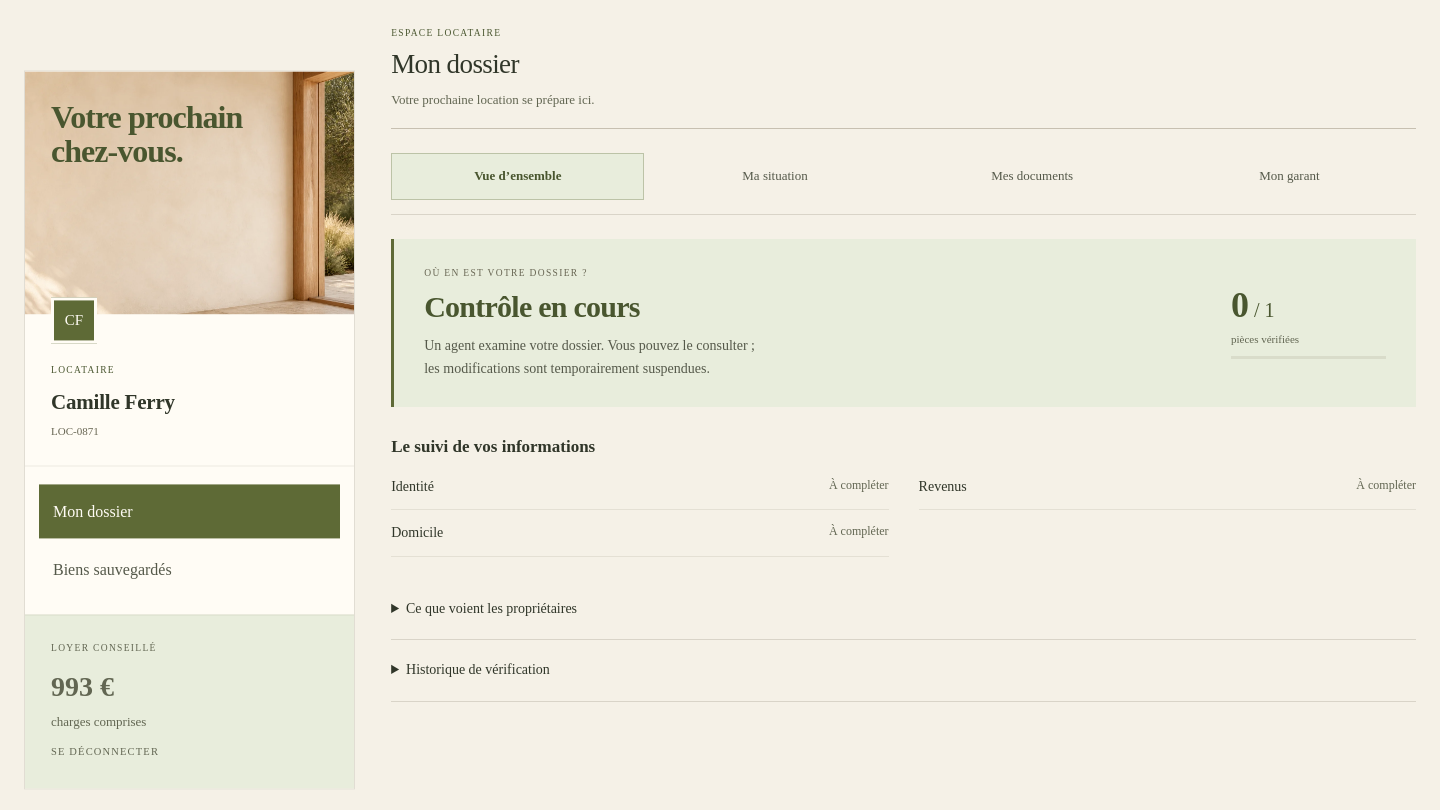
Test: Dossier locataire par rubriques › maintient les modifications verrouillées dans chaque rubrique pendant le contrôle
What coordinates should you click on to do the following:
click the button "Ma situation"
I would click on:
 (775, 176)
Its box is [648,153,902,200].
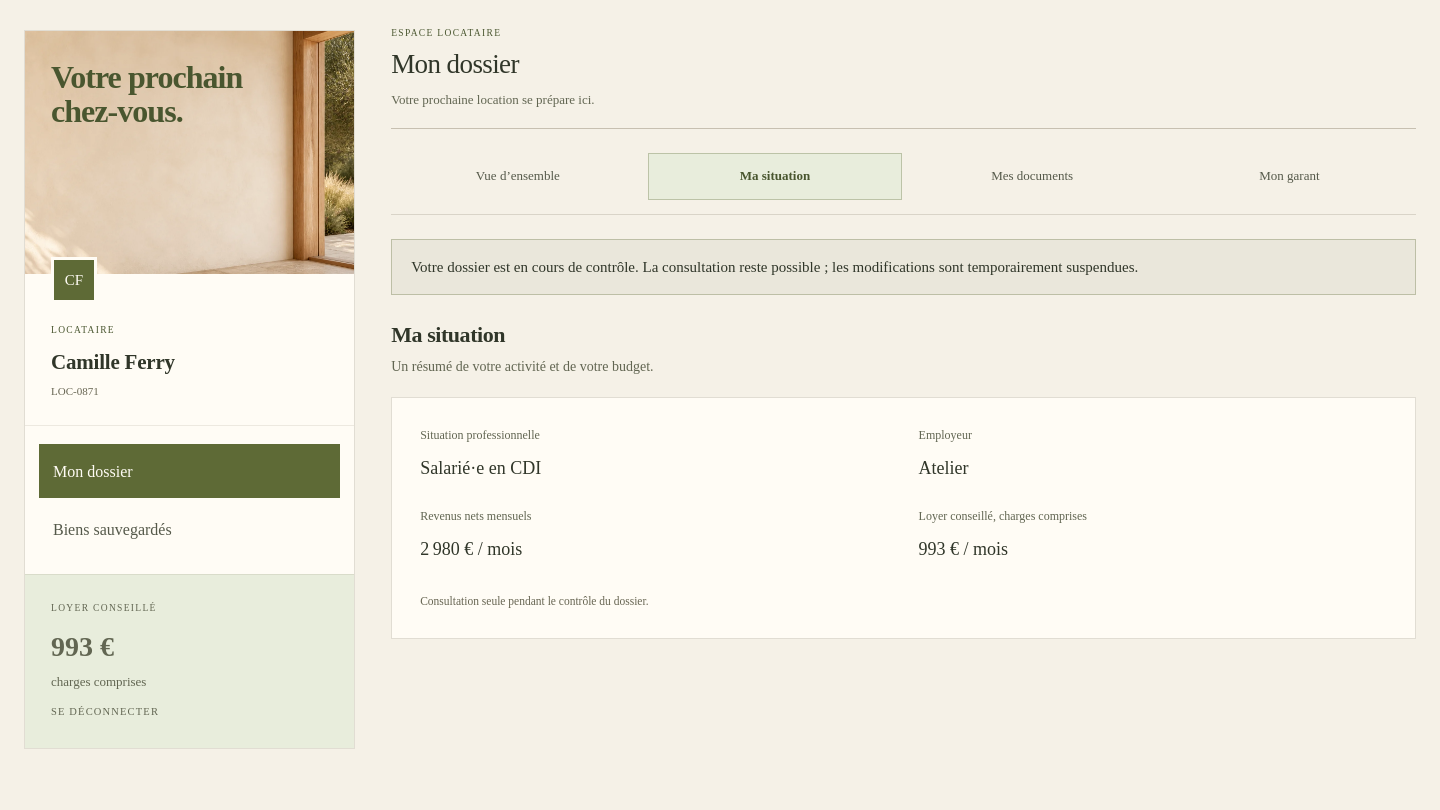
What coordinates should you click on to do the following:
click the button "Mes documents"
I would click on:
 (1032, 176)
Its box is [906,153,1159,200].
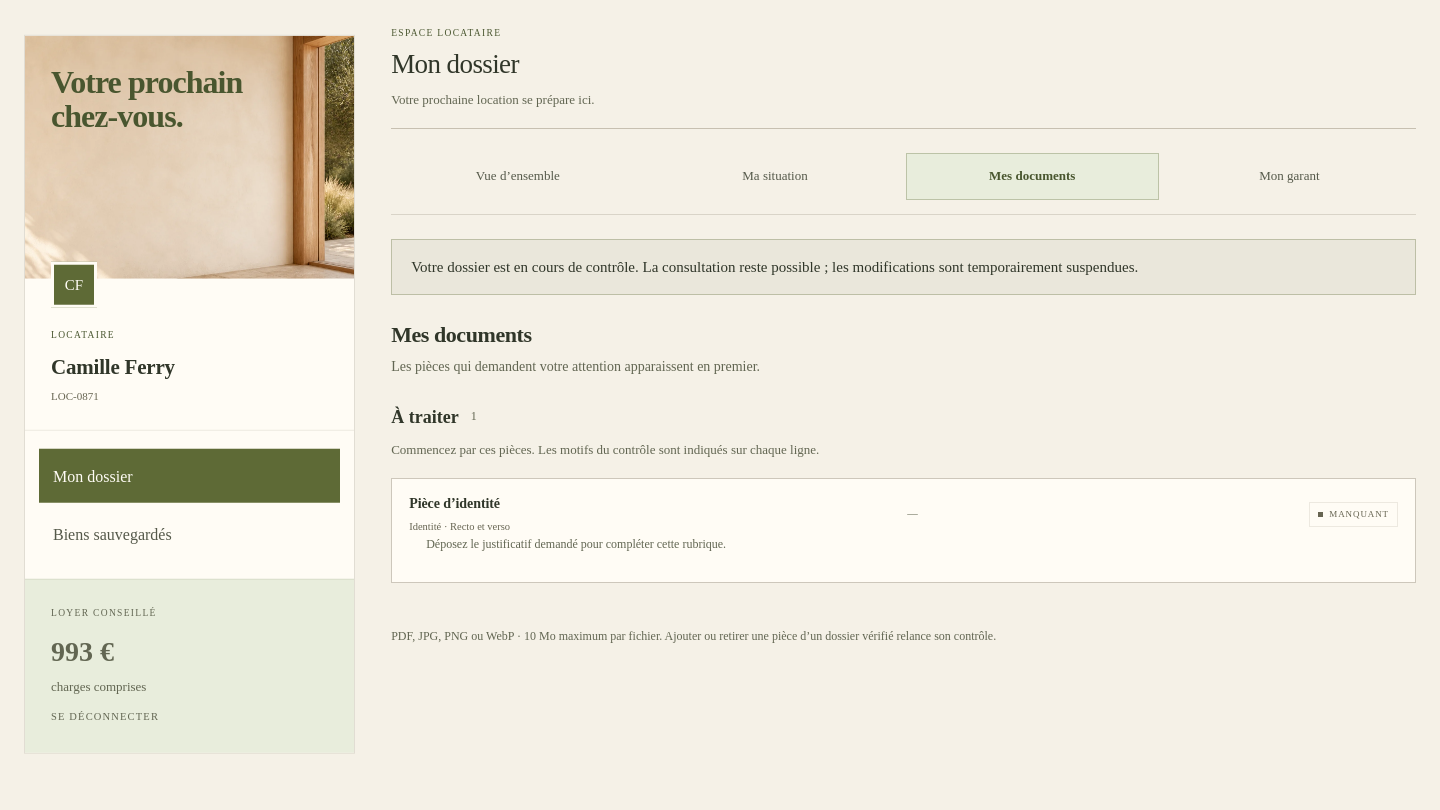
What coordinates should you click on to do the following:
click the button "Mon garant"
I would click on:
 (1289, 176)
Its box is [1163,153,1416,200].
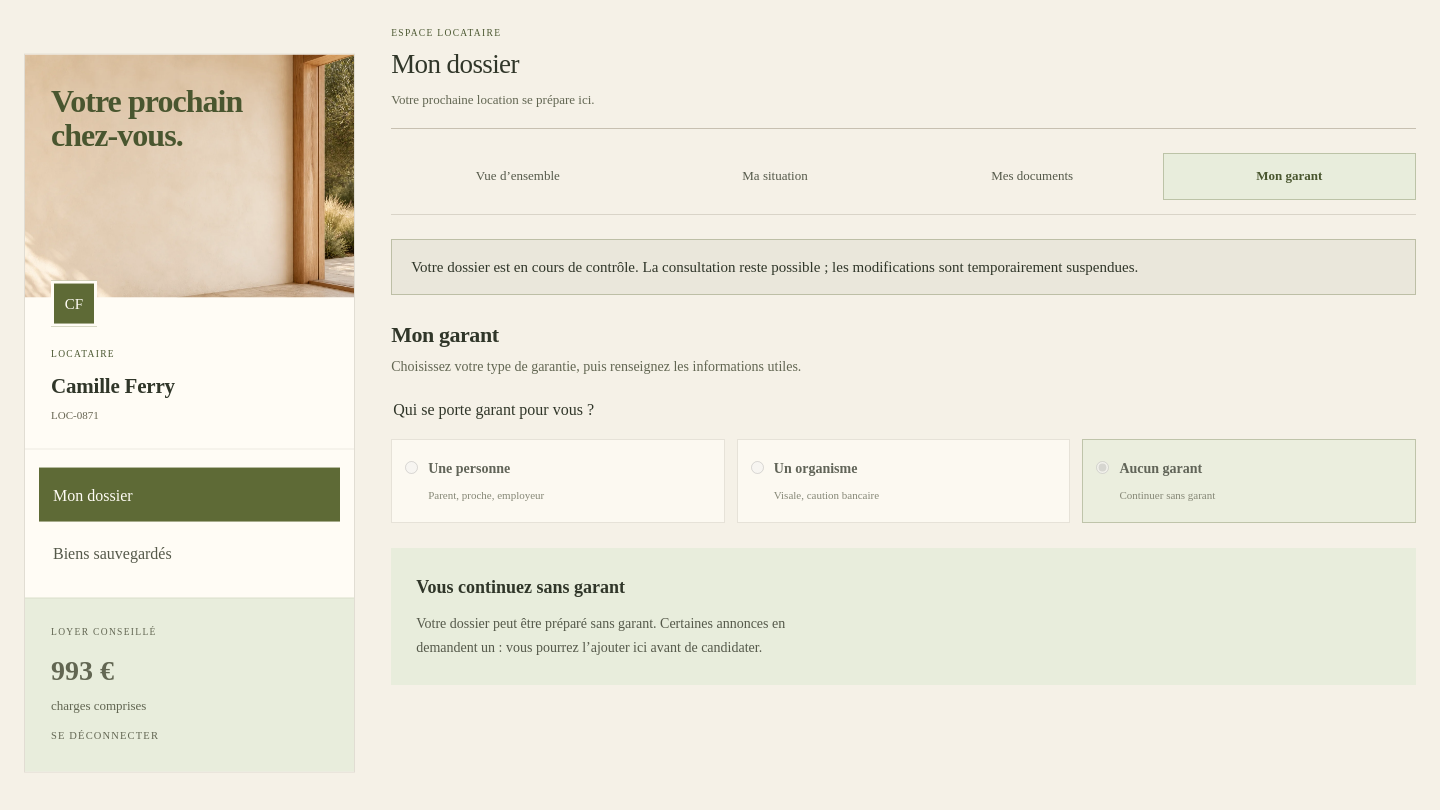
Expected: the radio button labelled "Une personne Parent, proche, employeur" is disabled, [405,461,418,474]
Expected: the radio button labelled "Un organisme Visale, caution bancaire" is disabled, [751,461,764,474]
Expected: the radio button labelled "Aucun garant Continuer sans garant" is disabled, [1096,461,1109,474]
